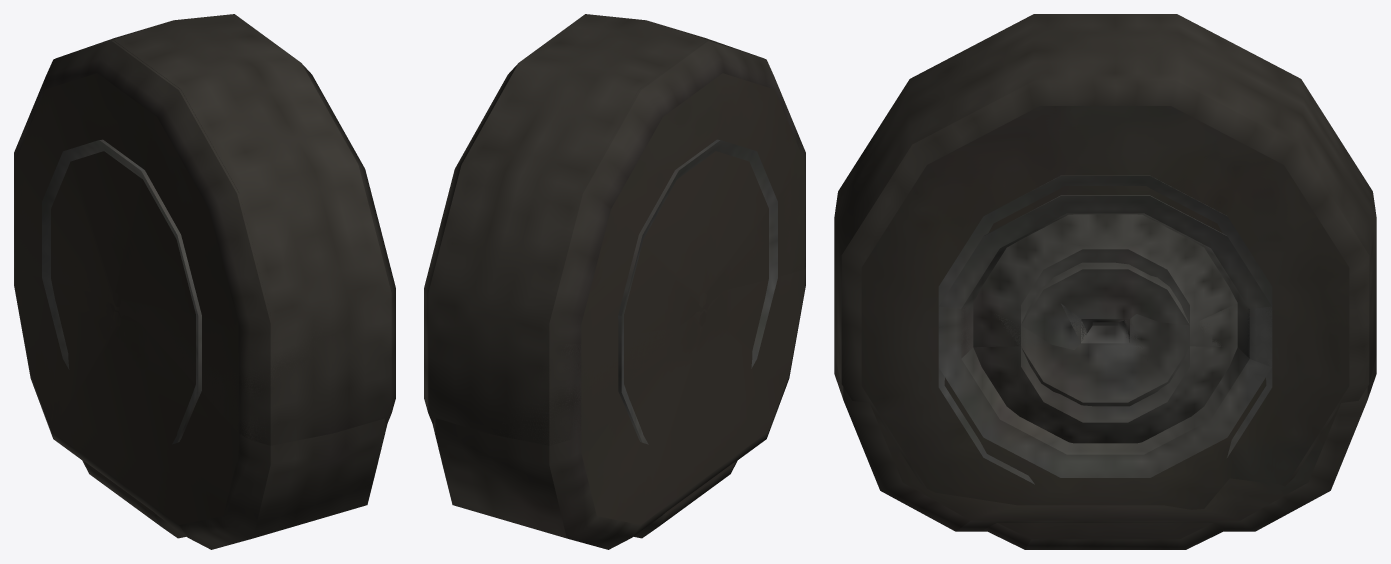
Rendered from bz_wheels_small.fbx.
3 views of the same model, side by side, from view 1: azimuth 30°, elevation 25°; view 2: azimuth 150°, elevation 25°; view 3: azimuth 270°, elevation 25° (orthographic). The views are drawn at different scales.
Parts seen in each view (by area): view 1: bz_wheel_01, bz_wheel_02, bz_wheel_04, bz_wheel_03; view 2: bz_wheel_01, bz_wheel_02, bz_wheel_04, bz_wheel_03; view 3: bz_wheel_04, bz_wheel_02, bz_wheel_01.
Part boxes in pixels (bbox=[...]): bz_wheel_01: bbox=[14, 40, 333, 538]; bz_wheel_02: bbox=[14, 181, 387, 549]; bz_wheel_04: bbox=[56, 14, 395, 432]; bz_wheel_03: bbox=[42, 139, 201, 444]; bz_wheel_01: bbox=[431, 40, 805, 538]; bz_wheel_02: bbox=[432, 178, 805, 549]; bz_wheel_04: bbox=[424, 14, 763, 432]; bz_wheel_03: bbox=[618, 139, 777, 444]; bz_wheel_04: bbox=[834, 14, 1376, 549]; bz_wheel_02: bbox=[834, 186, 1376, 531]; bz_wheel_01: bbox=[834, 14, 1376, 477].
Bounding box in the file's own units: 0.2366 × 0.578 × 0.5941.
